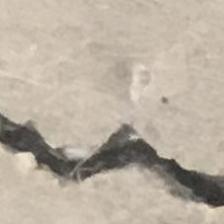Crack: (0, 106, 224, 224)
